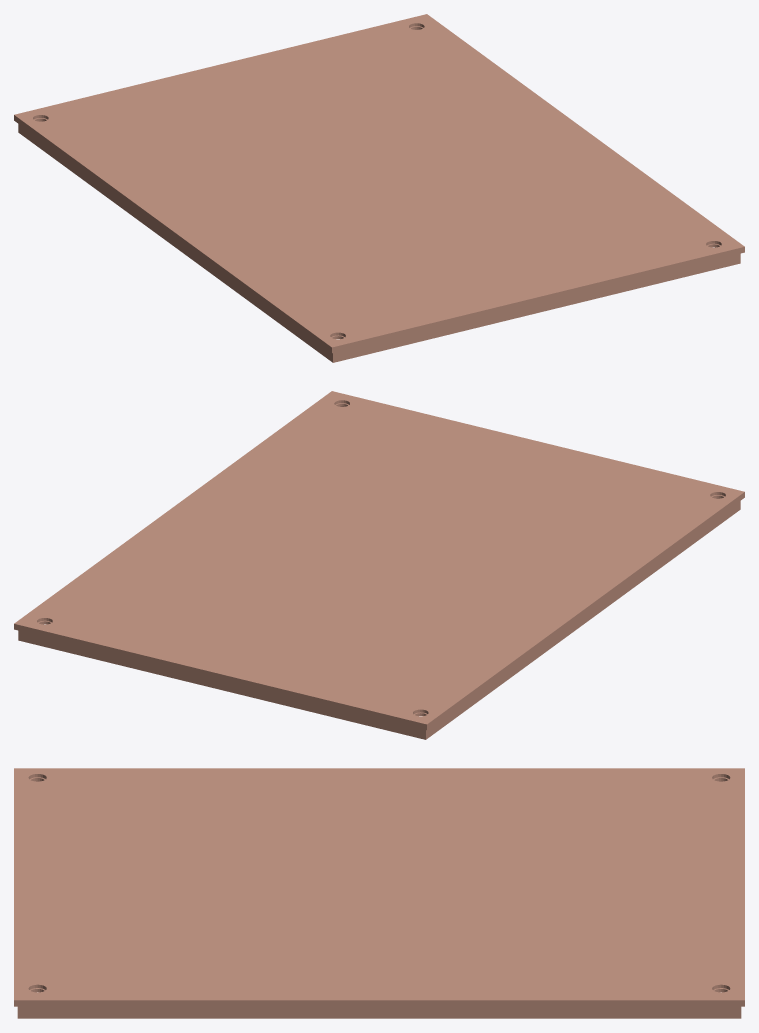
Rendered from tutup.glb.
3 renders of one model, top to bottom at view 1: azimuth 30°, elevation 25°; view 2: azimuth 150°, elevation 25°; view 3: azimuth 270°, elevation 25°, orthographic. The views are drawn at different scales.
Visible parts, largest first — view 1: Mesh_Mesh_head_geo.001_lambert2SG.001; view 2: Mesh_Mesh_head_geo.001_lambert2SG.001; view 3: Mesh_Mesh_head_geo.001_lambert2SG.001.
Boxes of the visible parts, x1,y1,x2,y2 form: Mesh_Mesh_head_geo.001_lambert2SG.001: (14, 14, 744, 362); Mesh_Mesh_head_geo.001_lambert2SG.001: (14, 391, 744, 739); Mesh_Mesh_head_geo.001_lambert2SG.001: (14, 768, 744, 1018).
Bounding box in the file's own units: 0.15 × 0.006 × 0.2.
